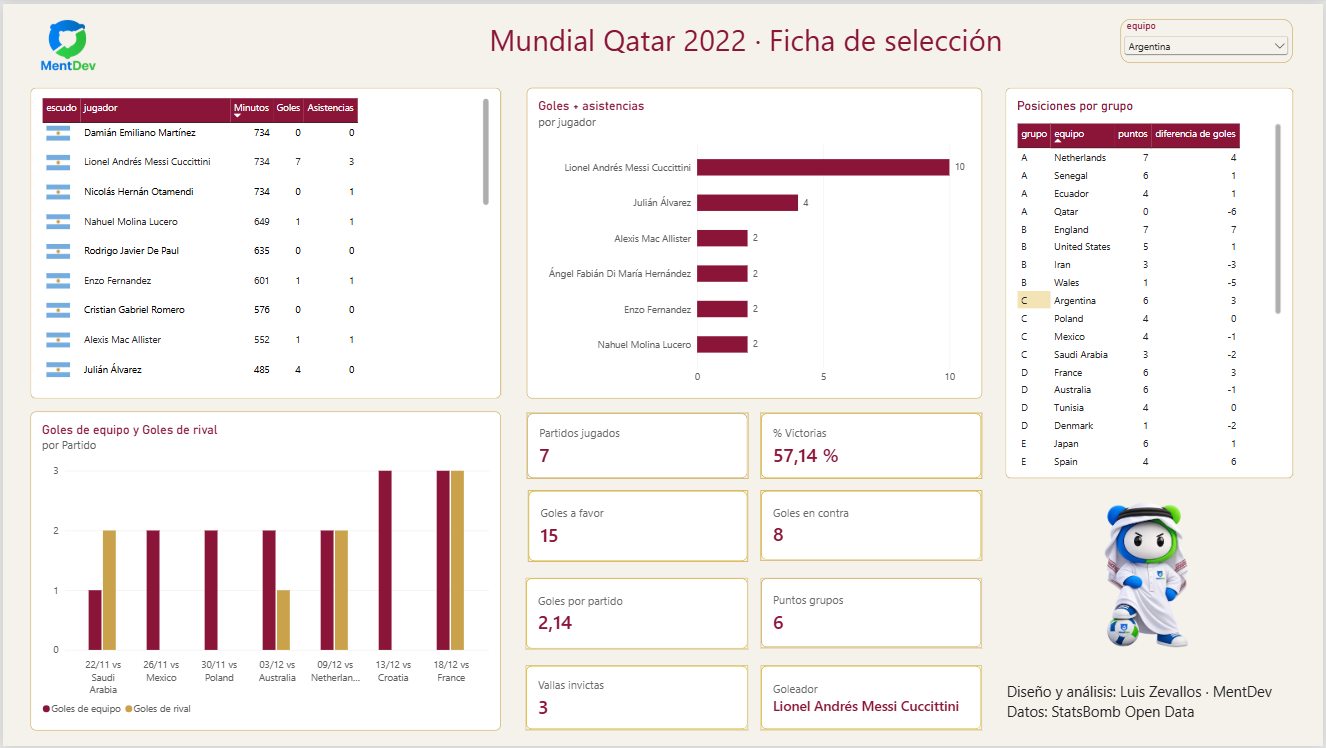

Layout of this report page (visuals, bound fields, positions):
{"tool":"powerbi","page":{"name":"Página 1","canvas":[1920,1080],"ordinal":0},"visuals":[{"type":"slicer","fields":{"Values":["Equipos.equipo"]},"box":[1625,21.4,250,64],"z":0},{"type":"tableEx","fields":{"Values":["Equipos.escudo","Estadisticas.jugador","Estadisticas.minutos","Estadisticas.goles","Estadisticas.asistencias"]},"box":[40,122,684,452],"z":1000},{"type":"clusteredBarChart","fields":{"Category":["Estadisticas.jugador"],"Y":["Sum(Estadisticas.goles_asistencias)"]},"box":[762,122,662,452],"z":2000},{"type":"clusteredColumnChart","title":"Goles de equipo y Goles de rival","fields":{"Category":["Partidos.Etiqueta"],"Y":["Sum(Partidos.goles_equipo)","Sum(Partidos.goles_rival)"]},"box":[40,592,684,464],"z":3000},{"type":"tableEx","title":"Posiciones por grupo","fields":{"Values":["Clasificacion.grupo","Clasificacion.equipo","Clasificacion.puntos","Clasificacion.dif_goles"]},"box":[1458,122,418,568],"z":4000},{"type":"cardVisual","fields":{"Data":["Partidos.Partidos jugados"]},"box":[762,594,322,96],"z":5000},{"type":"cardVisual","fields":{"Data":["Partidos.Goles a favor"]},"box":[764,708,320,104],"z":6000},{"type":"cardVisual","fields":{"Data":["Partidos.Goles en contra"]},"box":[1102,708,322,102],"z":7000},{"type":"cardVisual","fields":{"Data":["Partidos.% Victorias"]},"box":[1102,594,322,96],"z":8000},{"type":"textbox","box":[708,22,752,80],"z":9000},{"type":"cardVisual","fields":{"Data":["Partidos.Puntos grupos"]},"box":[1102,834,322,102],"z":10000},{"type":"cardVisual","fields":{"Data":["Partidos.Goles por partido"]},"box":[760,834,324,104],"z":11000},{"type":"cardVisual","fields":{"Data":["Partidos.Vallas invictas"]},"box":[760,962,324,94],"z":12000},{"type":"cardVisual","fields":{"Data":["Partidos.Goleador"]},"box":[1102,962,322,94],"z":13000},{"type":"image","box":[40,8,108,112],"z":14000},{"type":"image","box":[1458,724,402,214],"z":15000},{"type":"textbox","box":[1460,986,420,70],"z":16000}]}

Visuals, with their boxes in screenshot pixels (x1, y1, x2, y2), scaled from the page's 1920x1080 canvas onto the 1326x748 screenshot:
slicer - Equipos.equipo: [1122,15,1295,59]
tableEx - Equipos.escudo x Estadisticas.jugador: [28,84,500,398]
clusteredBarChart - Estadisticas.jugador x Sum(Estadisticas.goles_asistencias): [526,84,983,398]
"Goles de equipo y Goles de rival" clusteredColumnChart: [28,410,500,731]
"Posiciones por grupo" tableEx: [1007,84,1296,478]
cardVisual - Partidos.Partidos jugados: [526,411,749,478]
cardVisual - Partidos.Goles a favor: [528,490,749,562]
cardVisual - Partidos.Goles en contra: [761,490,983,561]
cardVisual - Partidos.% Victorias: [761,411,983,478]
textbox: [489,15,1008,71]
cardVisual - Partidos.Puntos grupos: [761,578,983,648]
cardVisual - Partidos.Goles por partido: [525,578,749,650]
cardVisual - Partidos.Vallas invictas: [525,666,749,731]
cardVisual - Partidos.Goleador: [761,666,983,731]
image: [28,6,102,83]
image: [1007,501,1285,650]
textbox: [1008,683,1298,731]
